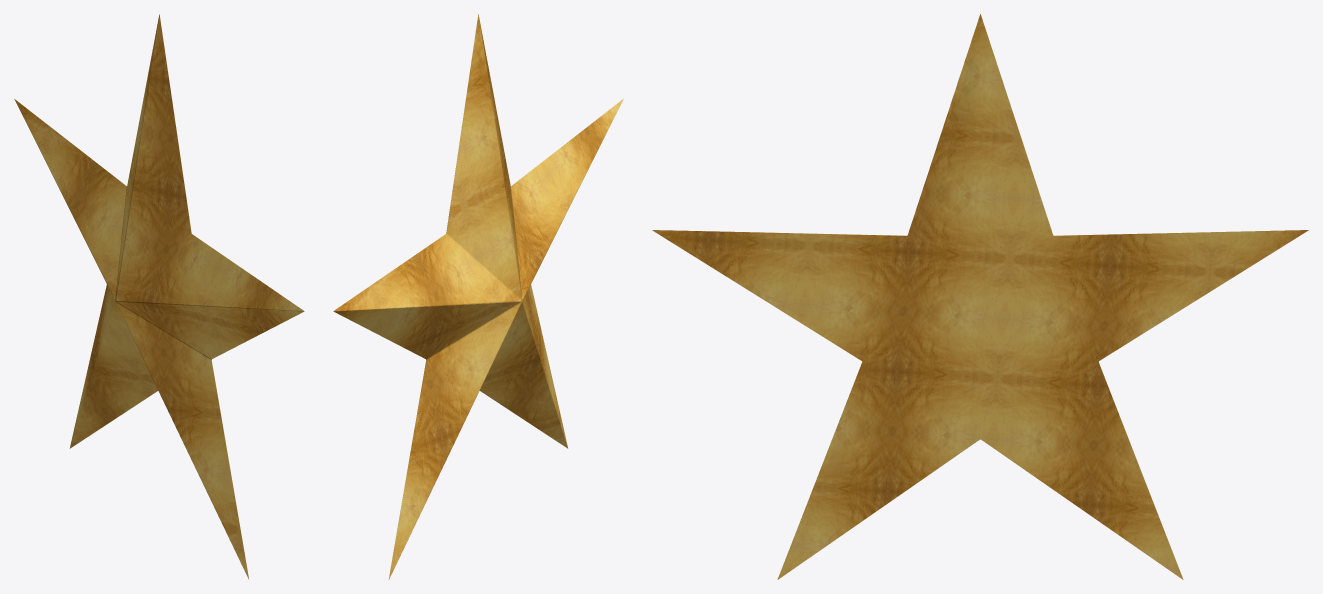
Rendered from Gold_Star.obj.
3 views of the same model, side by side, from view 1: azimuth 30°, elevation 25°; view 2: azimuth 150°, elevation 25°; view 3: azimuth 270°, elevation 25° (orthographic). The views are drawn at different scales.
Parts seen in each view (by area): view 1: Gold_Star; view 2: Gold_Star; view 3: Gold_Star.
Part boxes in pixels (x1,y1,x2,y2): Gold_Star: (14,14,304,579); Gold_Star: (333,14,623,579); Gold_Star: (652,14,1308,579).
Bounding box in the file's own units: 3.23 × 35.48 × 37.3.
1 material, 1 textured.
